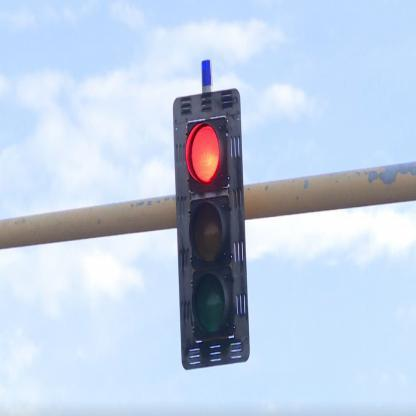red_light: (174, 88, 250, 369)
